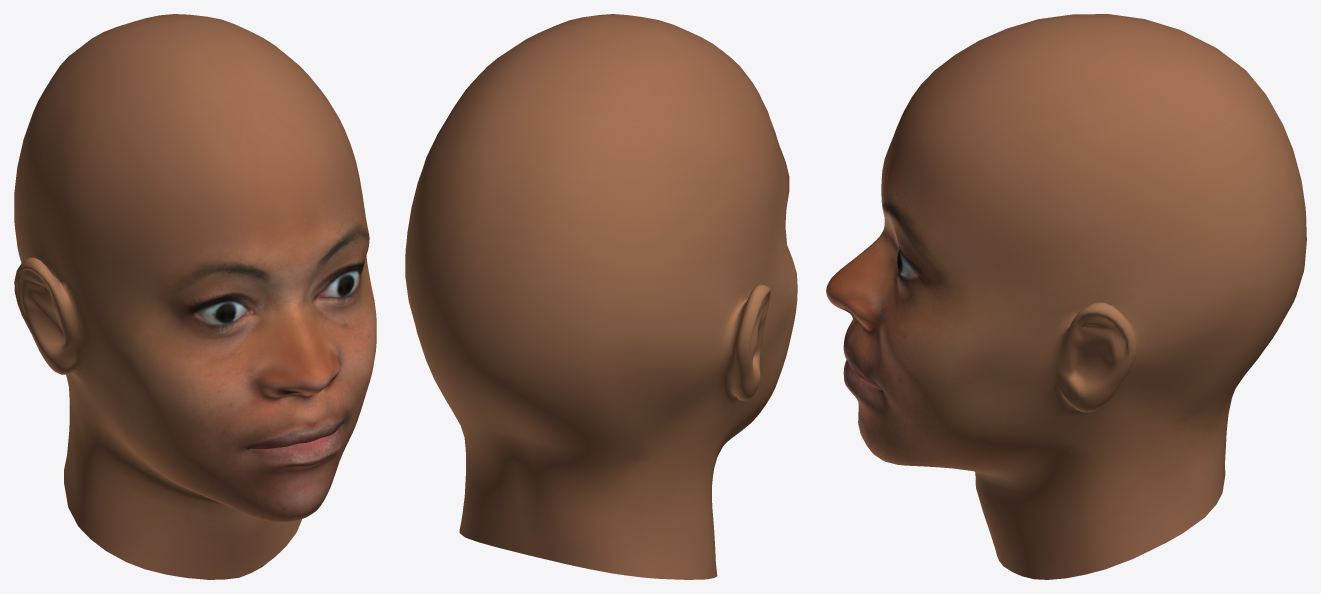
File: v332_obj_PhonemeB,M,P.obj
The picture shows the model from 3 angles, left to right: view 1: azimuth 30°, elevation 25°; view 2: azimuth 150°, elevation 25°; view 3: azimuth 270°, elevation 25°; orthographic projection. The views are drawn at different scales.
Visible parts, largest first — view 1: HeadHires; view 2: HeadHires; view 3: HeadHires.
Part boxes in pixels (bbox=[...]): HeadHires: bbox=[14, 14, 376, 579]; HeadHires: bbox=[405, 14, 797, 579]; HeadHires: bbox=[826, 14, 1306, 579].
Size of the model in its own units: 187 by 282 by 233.
